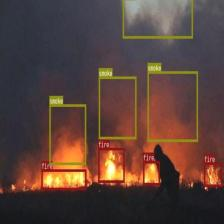fire: (41, 169, 86, 189), (98, 148, 124, 182), (204, 162, 222, 187), (143, 160, 160, 184)
smoke: (147, 71, 198, 141), (122, 0, 193, 38), (99, 76, 136, 139), (49, 104, 86, 164)
